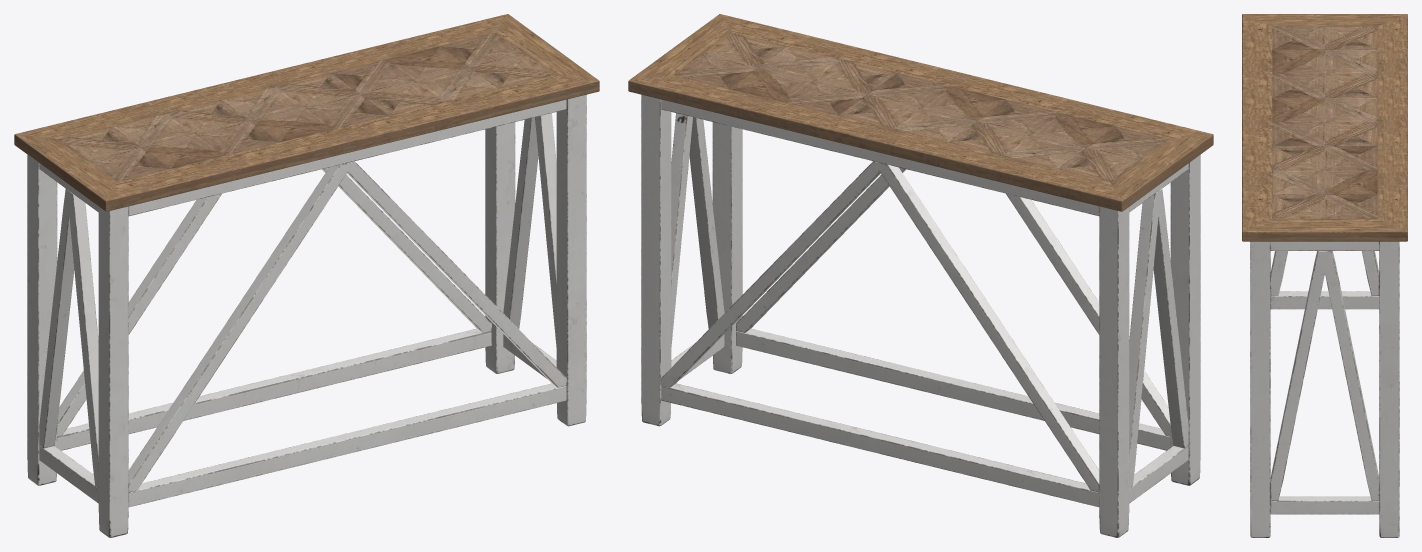
Rendered from abo-B075Z876TX.glb.
3 renders of one model, left to right at view 1: azimuth 30°, elevation 25°; view 2: azimuth 150°, elevation 25°; view 3: azimuth 270°, elevation 25°, orthographic. The views are drawn at different scales.
Size of the model in its own units: 1.4 by 0.93 by 0.45.
1 material, 1 textured.
